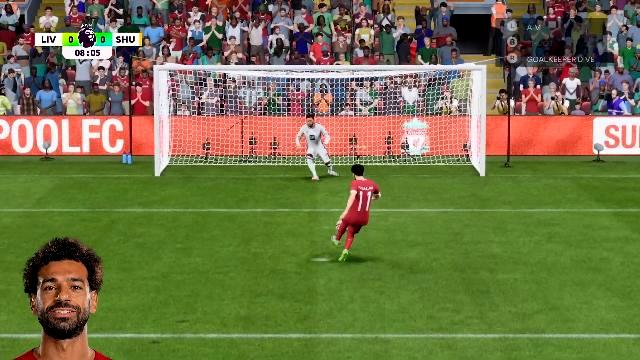bottom-left: (159, 124, 277, 178)
bottom-right: (358, 124, 480, 178)
center-down: (278, 124, 356, 178)
center-up: (278, 69, 356, 123)
goalkeeper: (296, 114, 338, 180)
player: (331, 162, 381, 264)
top-left: (159, 72, 277, 122)
top-right: (358, 69, 480, 123)
